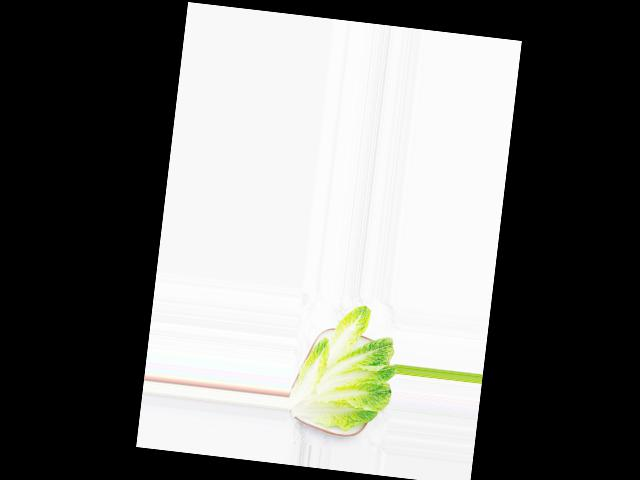lettuce: (309, 292, 427, 403)
